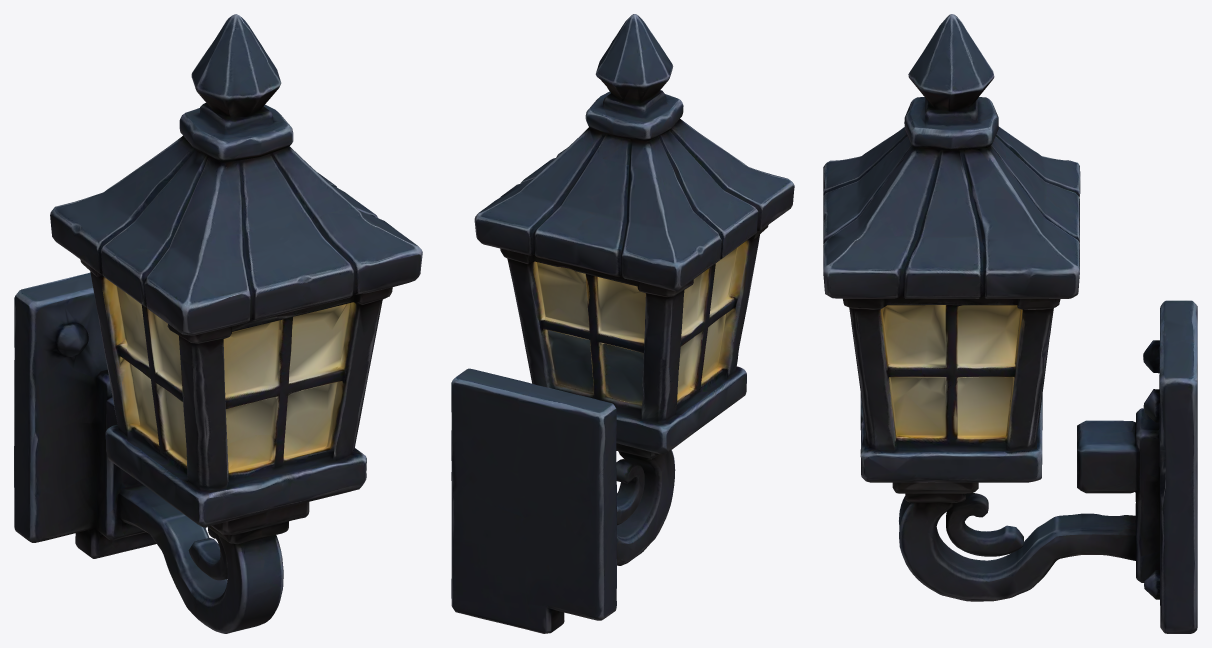
Rendered from trim_lantern.glb.
3 views of the same model, side by side, from view 1: azimuth 30°, elevation 25°; view 2: azimuth 150°, elevation 25°; view 3: azimuth 270°, elevation 25° (orthographic). The views are drawn at different scales.
Visible parts, largest first — view 1: tripo_node_6ea156a6-ec9b-4b93-8bfd-4f21dd3bc9c5; view 2: tripo_node_6ea156a6-ec9b-4b93-8bfd-4f21dd3bc9c5; view 3: tripo_node_6ea156a6-ec9b-4b93-8bfd-4f21dd3bc9c5.
Boxes of the visible parts, x1,y1,x2,y2 form: tripo_node_6ea156a6-ec9b-4b93-8bfd-4f21dd3bc9c5: [14, 14, 422, 633]; tripo_node_6ea156a6-ec9b-4b93-8bfd-4f21dd3bc9c5: [451, 14, 794, 633]; tripo_node_6ea156a6-ec9b-4b93-8bfd-4f21dd3bc9c5: [823, 14, 1197, 633].
Size of the model in its own units: 0.397 by 0.9785 by 0.5701.
Materials: 1 (1 with a texture image).
